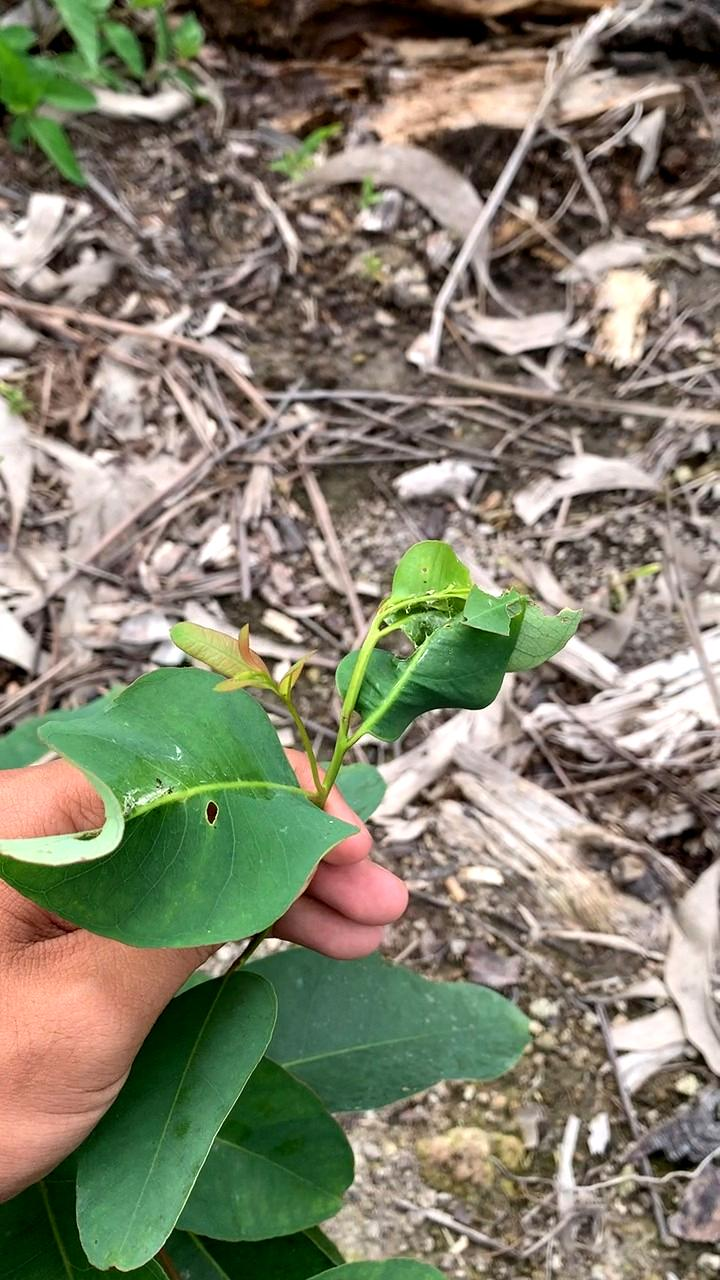Leaf Roller - Leaf: (329, 528, 578, 774)
